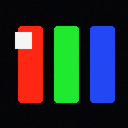1 square: (15, 32, 31, 48)
